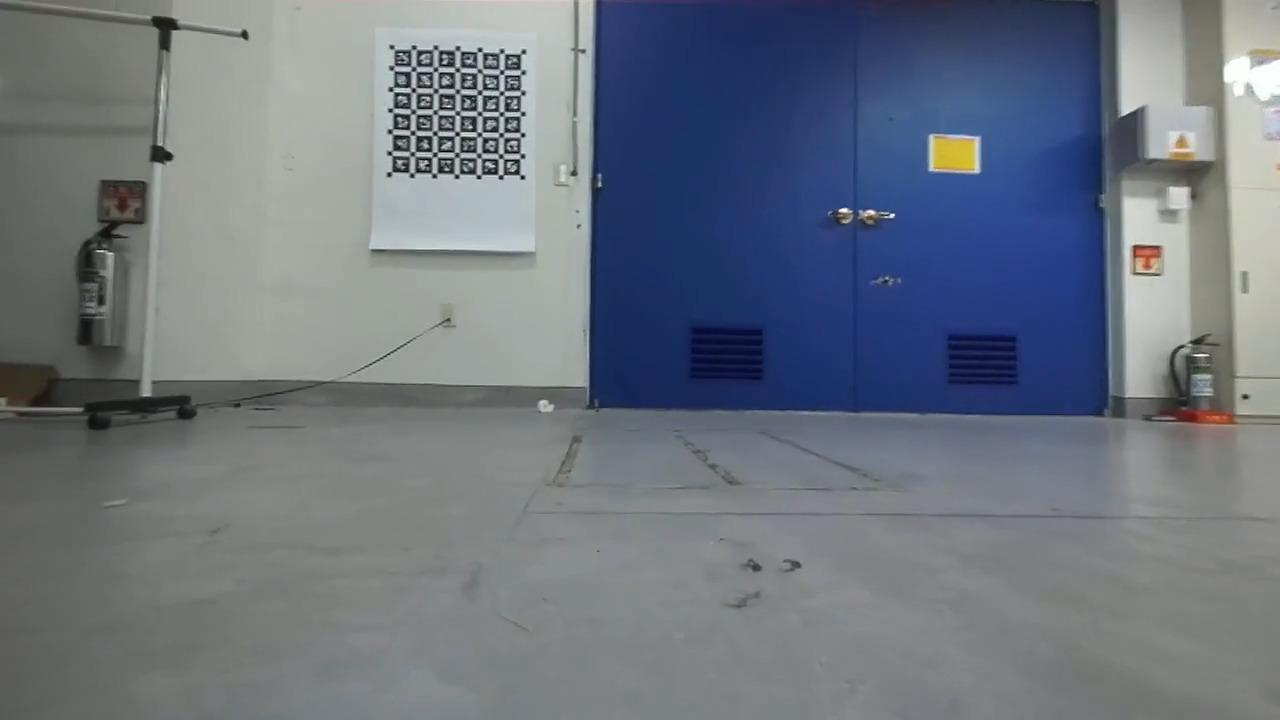crazyflie: (858, 270, 912, 294)
